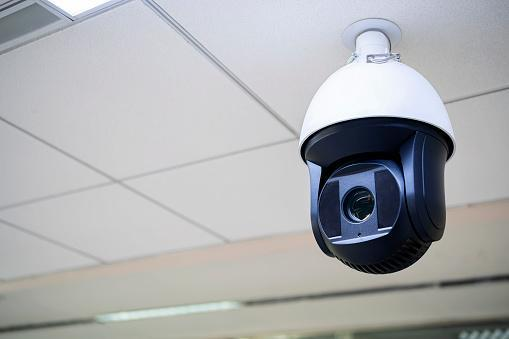camera: (280, 54, 470, 284)
